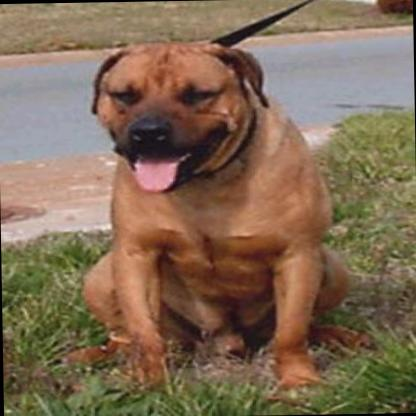boxer: (66, 33, 356, 397)
